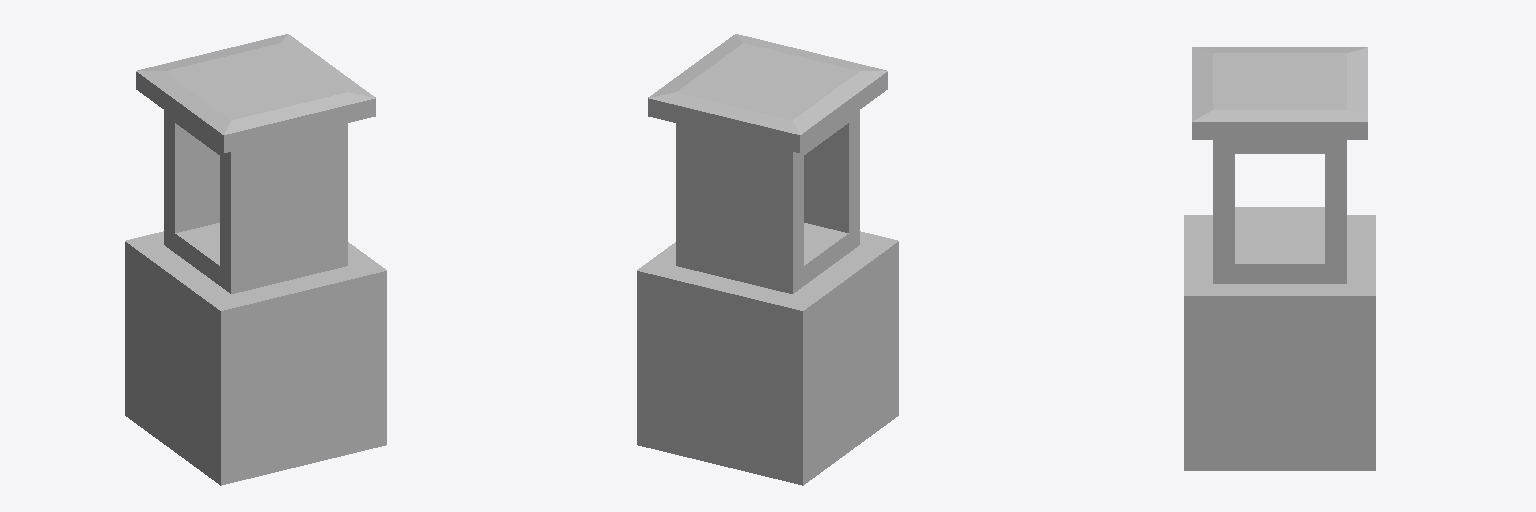
The model's file is wierd.obj.
3 views of the same model, side by side, from view 1: azimuth 30°, elevation 25°; view 2: azimuth 150°, elevation 25°; view 3: azimuth 270°, elevation 25° (orthographic).
Parts seen in each view (by area): view 1: Cube_Cube.003; view 2: Cube_Cube.003; view 3: Cube_Cube.003.
Boxes of the visible parts, x1=… form: Cube_Cube.003: x1=125, y1=34, x2=386, y2=485; Cube_Cube.003: x1=637, y1=34, x2=898, y2=485; Cube_Cube.003: x1=1184, y1=47, x2=1375, y2=470.
Size of the model in its own units: 2 by 3.99 by 2.